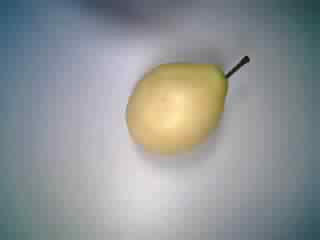pear: (111, 50, 253, 162)
